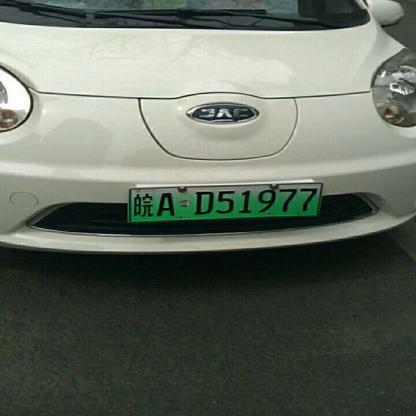lp: (130, 184, 322, 221)
